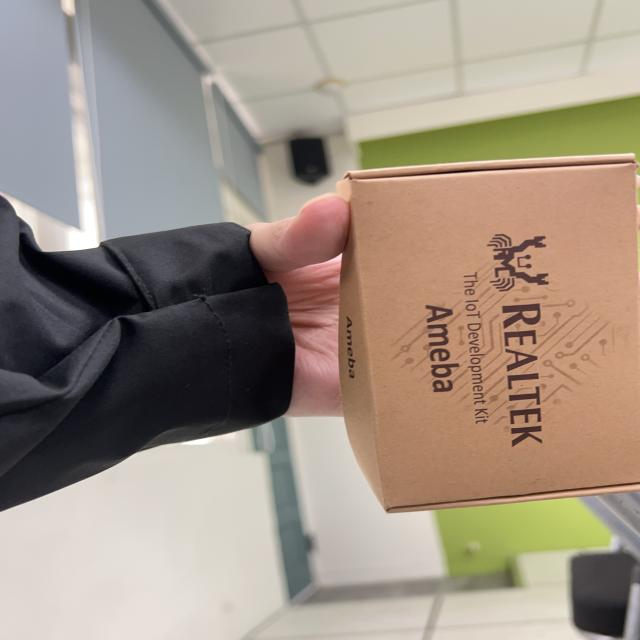box: (321, 145, 640, 533)
